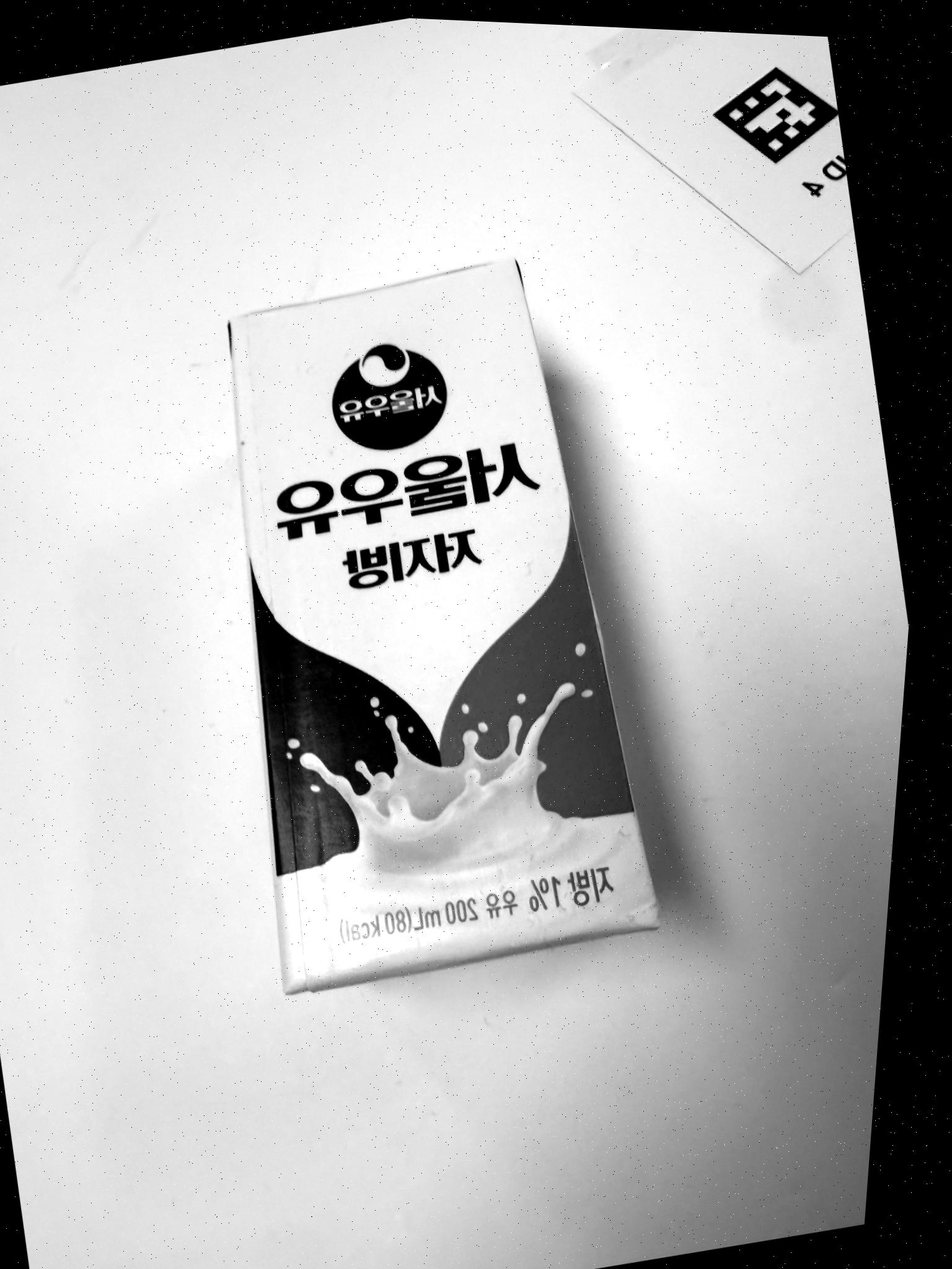milk_blue: (231, 261, 657, 993)
